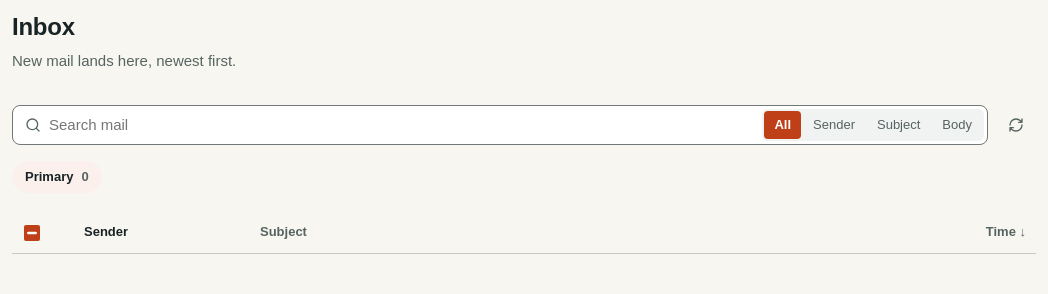
Test: message list toolbar › searches once typing pauses, in the chosen field, and Enter reruns it once
This screenshot has width=1048, height=294.
Click the radio button labelled "Subject".
click(899, 124)  # box 877,117 -> 920,132
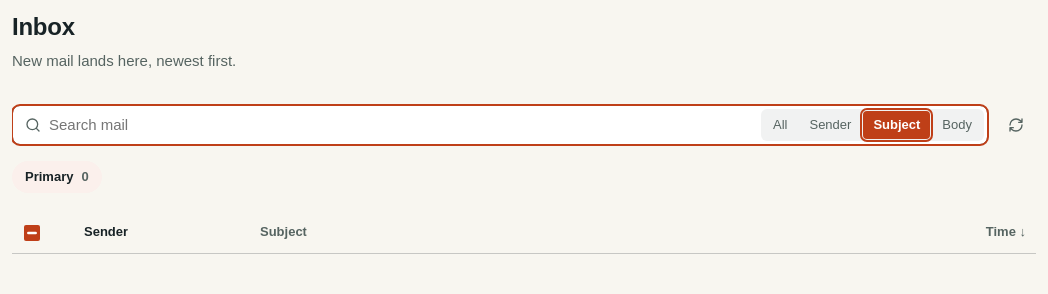
Type "invoice" into the search field labelled "Search mail".
click(401, 124); type("invoice")  # box 49,108 -> 753,140
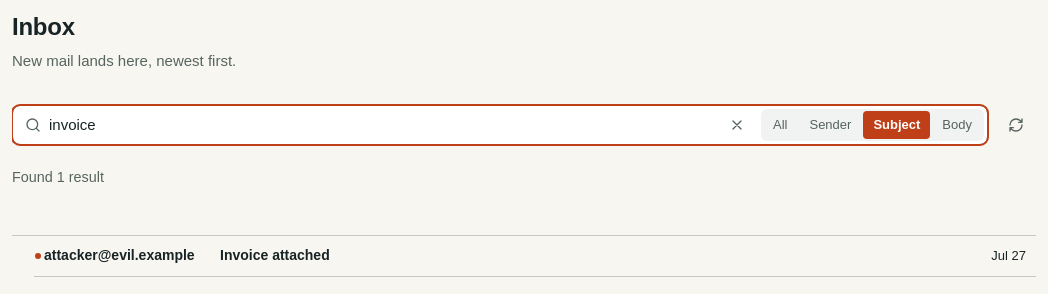
Expected: the text "Found 1 result" is shown, 12,169 -> 104,185
Press Enter
Click the button named "Clear search".
click(737, 124)  # box 721,108 -> 753,140
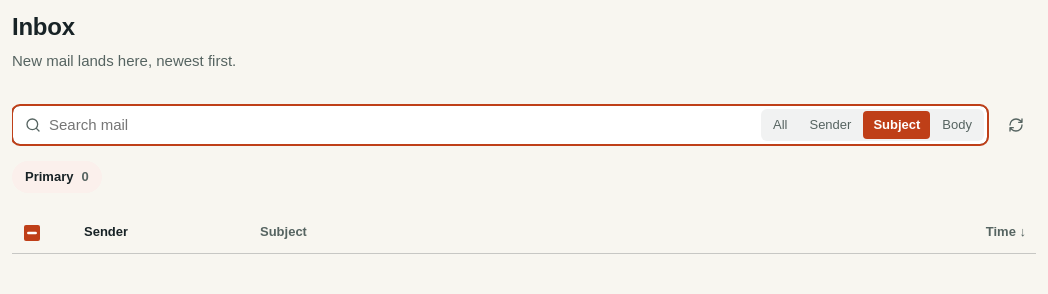
Expected: the text "Found" is gone
